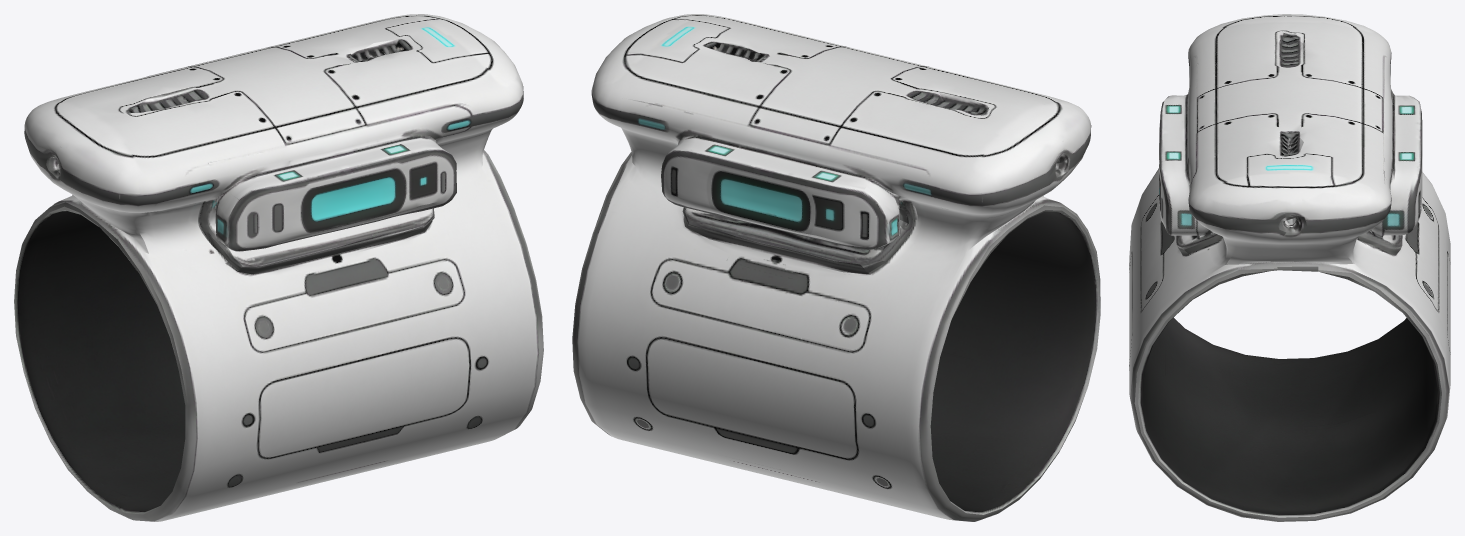
Rendered from Right_Arm.fbx.
3 renders of one model, left to right at view 1: azimuth 30°, elevation 25°; view 2: azimuth 150°, elevation 25°; view 3: azimuth 270°, elevation 25°, orthographic. The views are drawn at different scales.
Visible parts, largest first — view 1: Mesh0; view 2: Mesh0; view 3: Mesh0.
Part boxes in pixels (x1,y1,x2,y2): Mesh0: (14,14,543,521); Mesh0: (572,14,1100,521); Mesh0: (1129,14,1450,521).
Bounding box in the file's own units: 191 × 160 × 134.
1 material, 1 textured.
